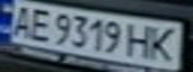1: (84, 16, 106, 53)
3: (66, 12, 90, 50)
9: (48, 11, 75, 46), (103, 18, 127, 55)
A: (3, 2, 39, 38)
E: (24, 6, 57, 42)
H: (124, 20, 157, 60)
K: (145, 24, 184, 63)
